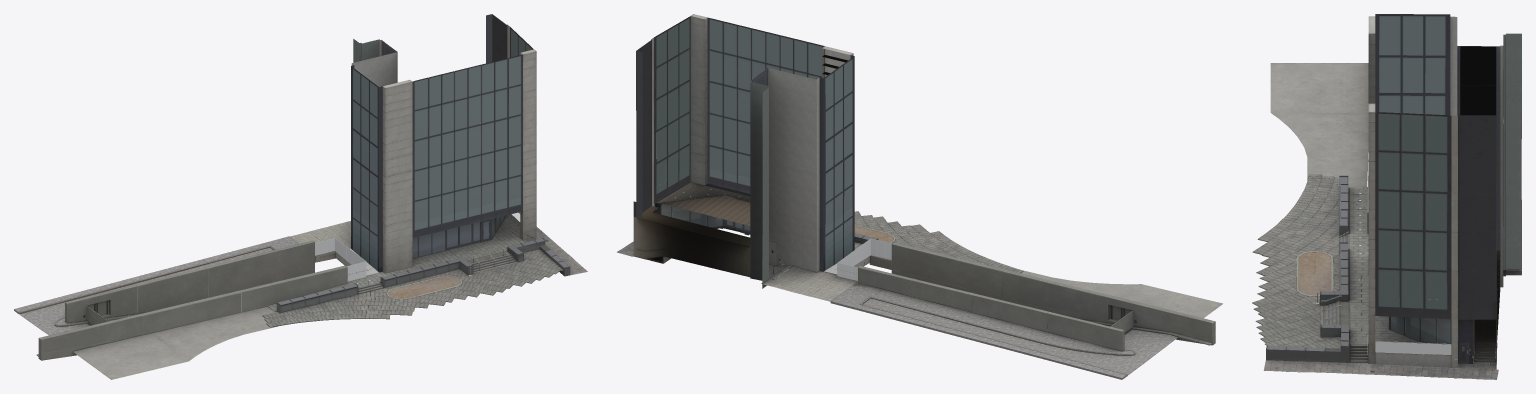
The picture shows the model from 3 angles, left to right: view 1: azimuth 30°, elevation 25°; view 2: azimuth 150°, elevation 25°; view 3: azimuth 270°, elevation 25°; orthographic projection. The views are drawn at different scales.
Visible parts, largest first — view 1: building_upper_mid_glass, walls, ground_front, building_upper_mid, building_upper_left_glass, building_brick_left, building_brick_mid, ground_back, building_upper_left, building_brick_right, exterior_brick_left, pavement (+19 smaller); view 2: walls, building_upper, add_res_objects_back_wall, building_upper_mid_glass, ground_back, pavement, building_upper_right_glass, building_upper_left_glass, building_upper_right, building_upper_left, ground_front, building_brick_right (+8 smaller); view 3: building_upper_right, building_upper_right_glass, ground_front, building_upper, building_upper_left_glass, exterior_brick_left, exterior_brick_left_mid, exterior_brick_right_mid, exterior_brick_right, building_lower_glass, building_upper_left, add_res_objects_side_wall (+18 smaller).
Boxes of the visible parts, x1,y1,x2,y2 form: building_upper_mid_glass: (414, 56, 520, 229); walls: (38, 240, 347, 360); ground_front: (73, 251, 510, 379); building_upper_mid: (412, 54, 522, 237); building_upper_left_glass: (353, 69, 377, 269); building_brick_left: (382, 154, 412, 273); building_brick_mid: (382, 79, 536, 241); ground_back: (19, 221, 350, 335); building_upper_left: (351, 65, 382, 272); building_brick_right: (520, 49, 536, 182); exterior_brick_left: (262, 297, 373, 327); pavement: (14, 236, 298, 356); walls: (857, 242, 1215, 351); building_upper: (633, 68, 781, 288); add_res_objects_back_wall: (768, 68, 819, 272); building_upper_mid_glass: (709, 19, 822, 185); ground_back: (633, 256, 1178, 375); pavement: (830, 282, 1211, 379); building_upper_right_glass: (656, 18, 689, 194); building_upper_left_glass: (825, 59, 852, 269); building_upper_right: (633, 16, 690, 218); building_upper_left: (819, 55, 854, 271); ground_front: (717, 227, 1222, 318); building_brick_right: (690, 14, 707, 154); building_upper_right: (1375, 112, 1496, 319); building_upper_right_glass: (1378, 113, 1447, 309); ground_front: (1270, 63, 1368, 344); building_upper: (1457, 33, 1521, 365); building_upper_left_glass: (1379, 16, 1445, 114); exterior_brick_left: (1269, 174, 1339, 233); exterior_brick_left_mid: (1252, 230, 1339, 273); exterior_brick_right_mid: (1252, 270, 1339, 316); exterior_brick_right: (1255, 312, 1340, 348); building_lower_glass: (1375, 316, 1451, 354); building_upper_left: (1375, 14, 1450, 115); add_res_objects_side_wall: (1375, 319, 1473, 367).
Size of the model in its own units: 68.33 by 26.2 by 23.74.
Materials: 44 (43 with a texture image).
